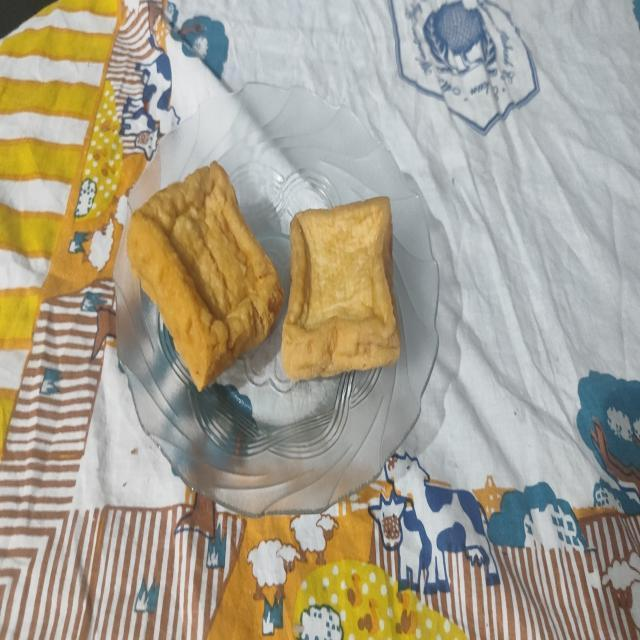tahu_goreng: (128, 162, 284, 390), (282, 197, 401, 380)
